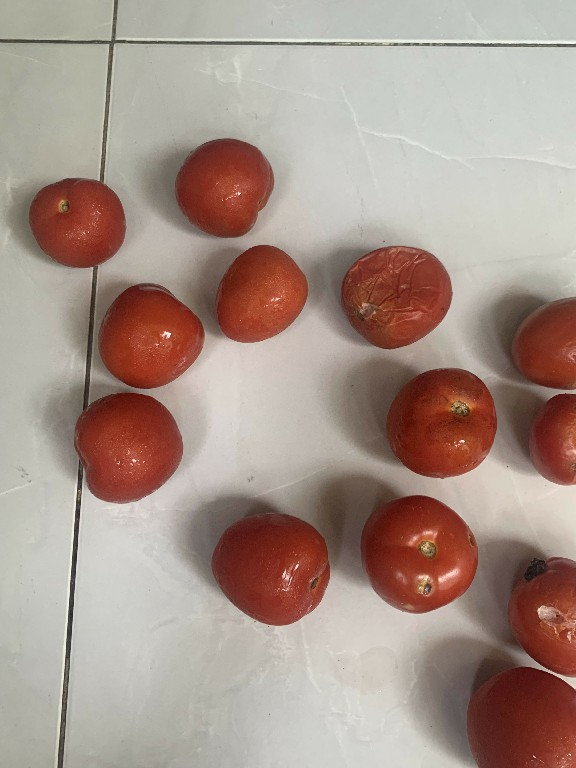NG: (358, 492, 479, 616), (340, 243, 456, 349), (510, 552, 575, 682)
OK: (203, 509, 340, 630), (66, 388, 190, 510), (383, 362, 495, 483), (92, 278, 205, 390), (162, 131, 278, 240), (209, 241, 319, 351), (467, 660, 575, 768), (24, 173, 129, 269)
